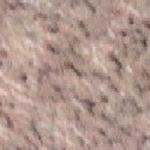alive: (1, 3, 143, 147)
